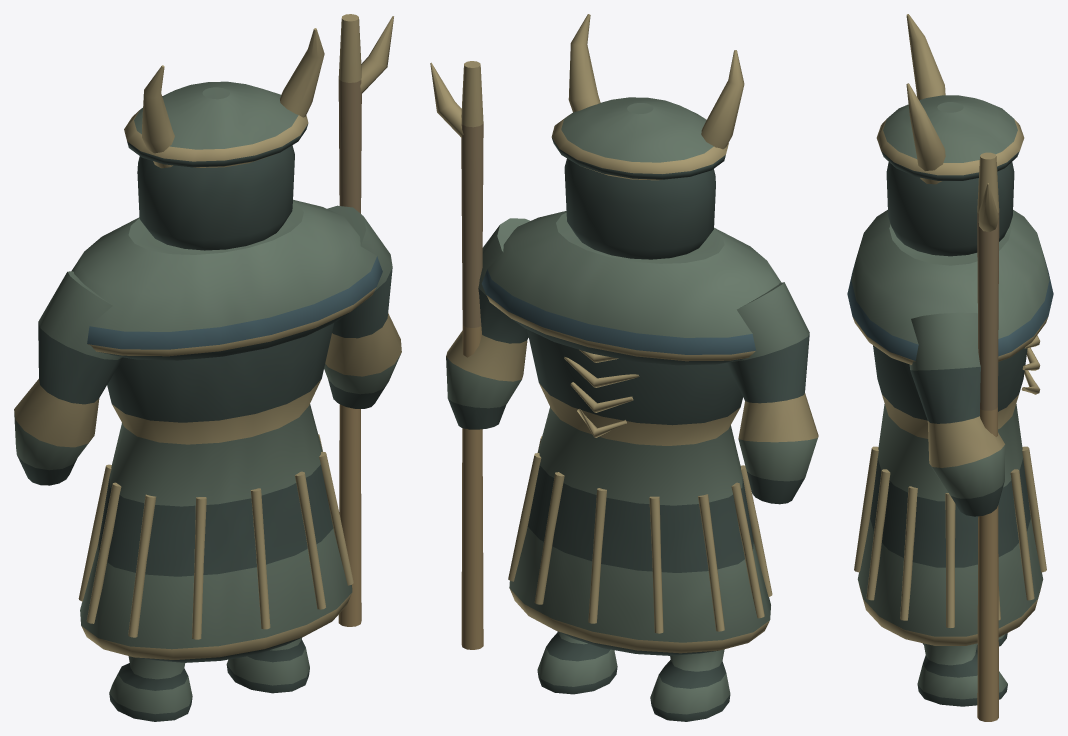
Rendered from elite.glb.
3 views of the same model, side by side, from view 1: azimuth 30°, elevation 25°; view 2: azimuth 150°, elevation 25°; view 3: azimuth 270°, elevation 25° (orthographic). The views are drawn at different scales.
Parts seen in each view (by area): view 1: Body, Walk00, Walk01; view 2: Body, Walk00, Walk01; view 3: Body, Walk01.
Part boxes in pixels (<box>): Body: <box>14,14,401,662</box>; Walk00: <box>109,656,192,721</box>; Walk01: <box>226,637,309,693</box>; Body: <box>430,14,818,655</box>; Walk00: <box>650,649,730,721</box>; Walk01: <box>537,632,617,694</box>; Body: <box>847,14,1053,721</box>; Walk01: <box>917,643,1007,706</box>.
Size of the model in its own units: 1.76 by 2.88 by 0.874.
Materials: 1 (1 with a texture image).
